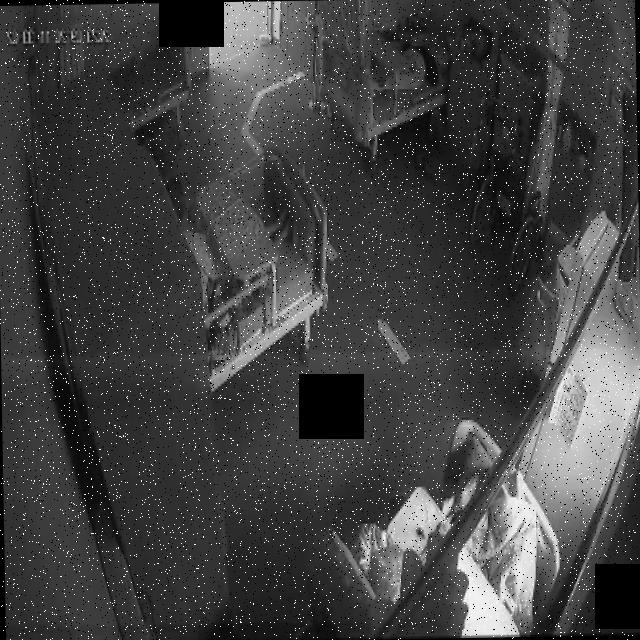bed: (318, 416, 562, 640), (204, 146, 332, 394), (318, 34, 446, 173), (126, 2, 194, 142)
